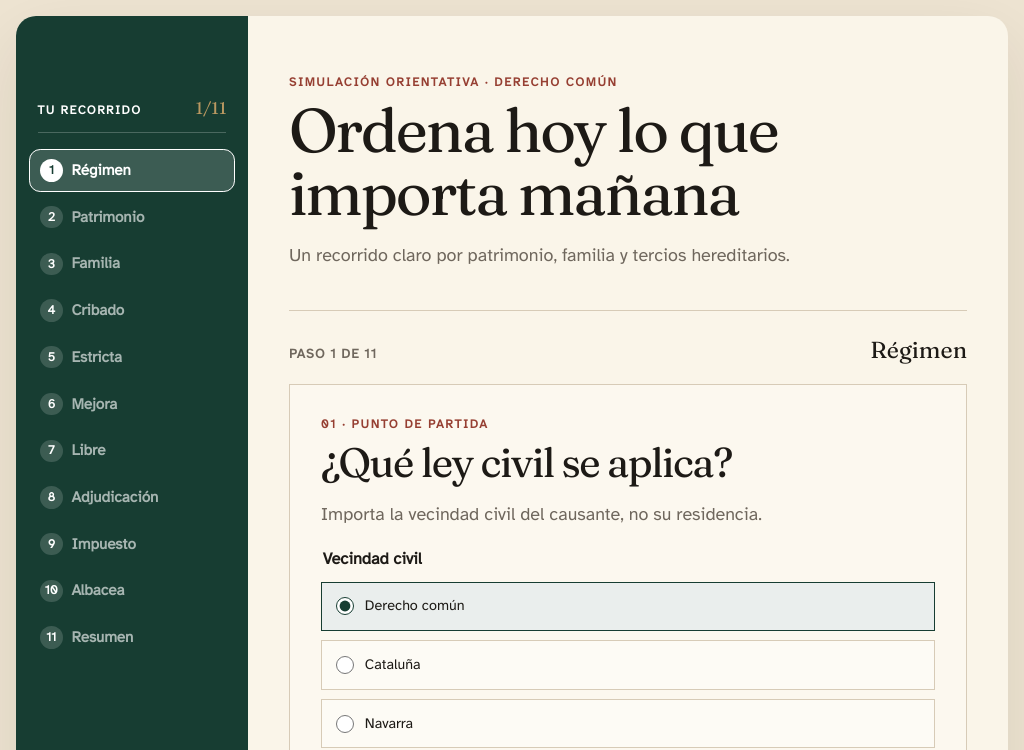
wizard › no premarca el consentimiento RGPD
What coordinates should you click on to do the following:
click the radio button labelled "Navarra"
I would click on:
 (345, 724)
Its box is [336,714,354,733].
(page scrolled)
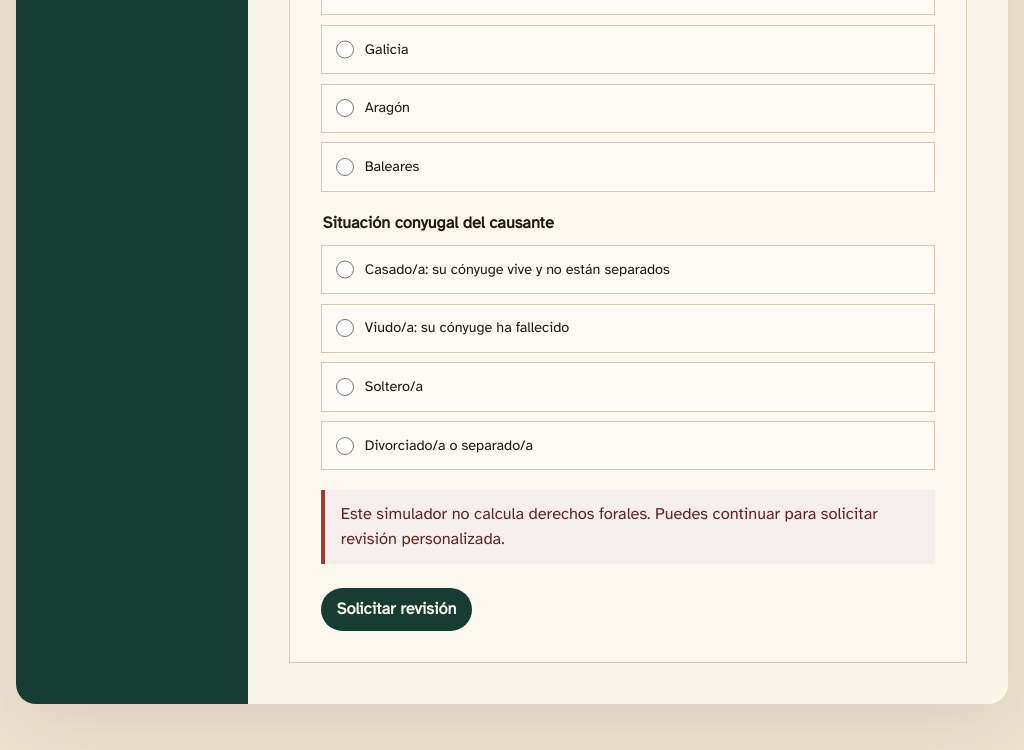
What coordinates should you click on to do the following:
click the radio button labelled "Soltero/a"
I would click on:
 (345, 387)
Its box is [336,378,354,396].
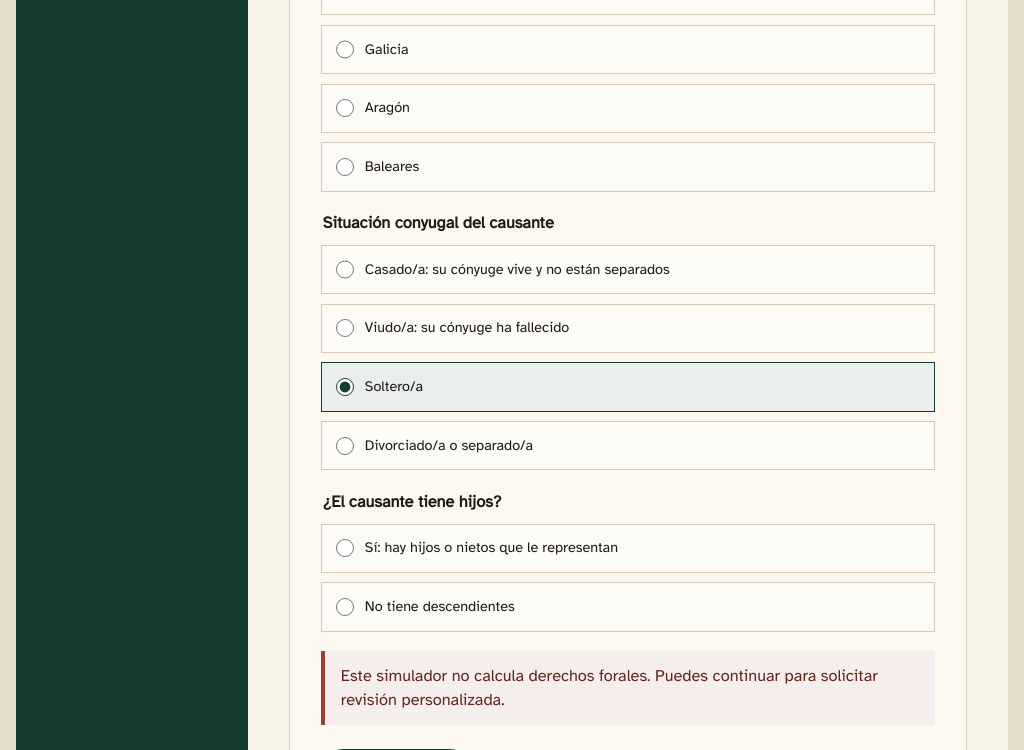
What coordinates should you click on to do the following:
click the radio button with test id "tiene-hijos-si"
I would click on:
 (345, 548)
Its box is [336,539,354,557].
(page scrolled)
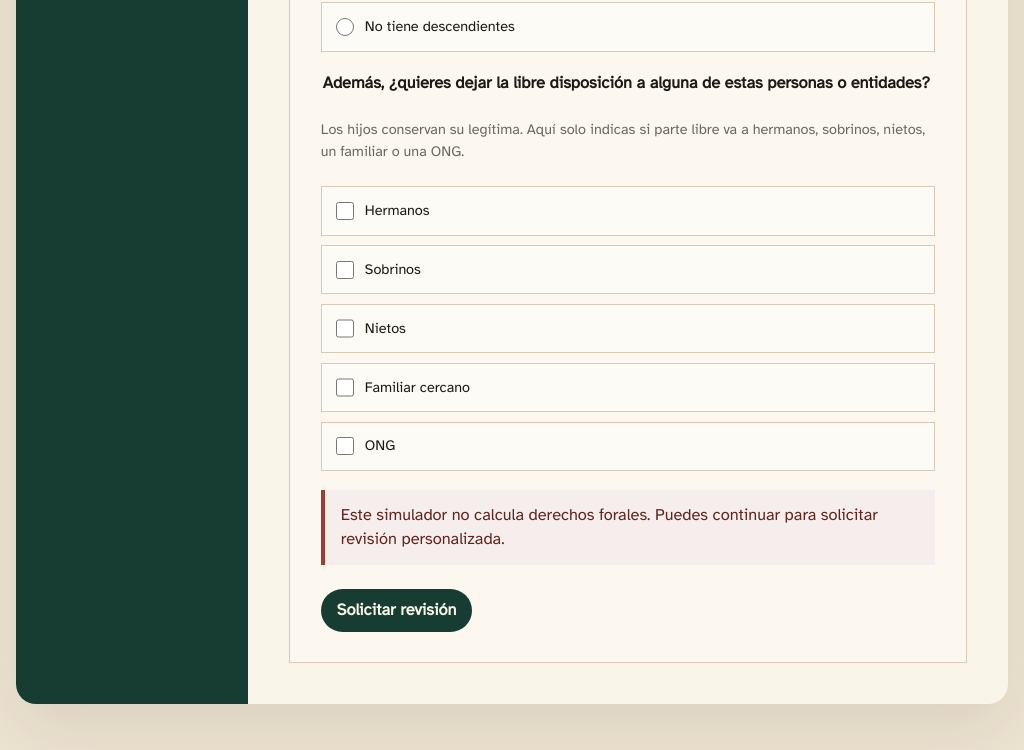
What coordinates should you click on to do the following:
click the button with test id "continuar"
I would click on:
 (397, 610)
Its box is [321,588,472,632].
(page scrolled)
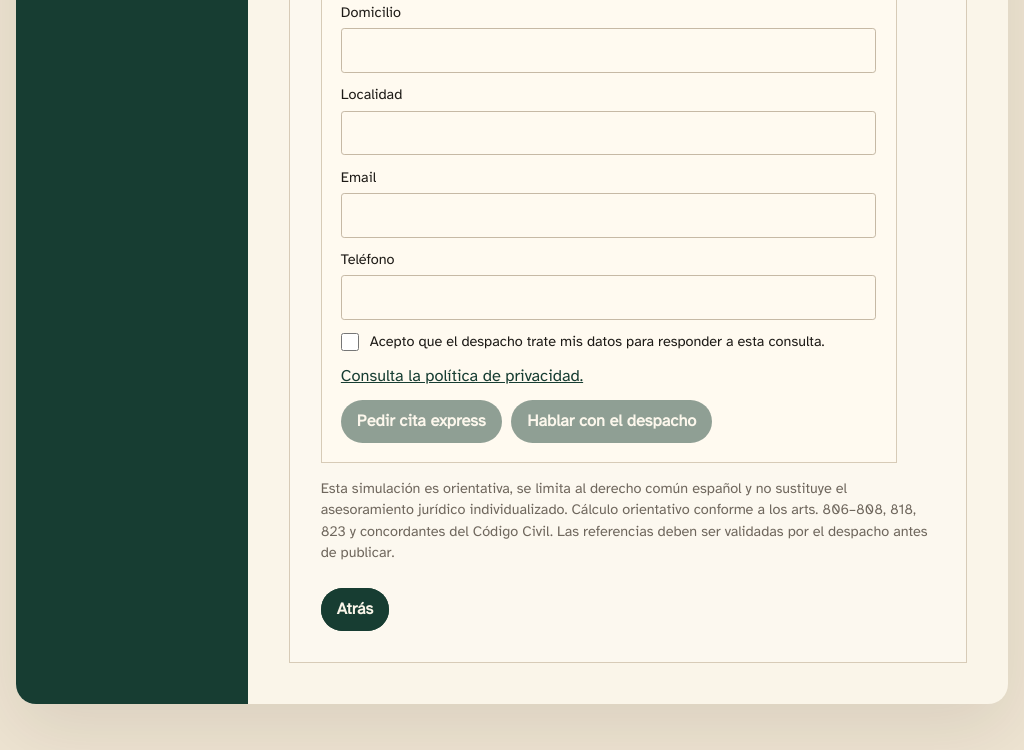
Expected: the checkbox with test id "consentimiento" is not checked, [341,333,359,351]
Expected: the submit button is disabled, [511,400,712,443]
